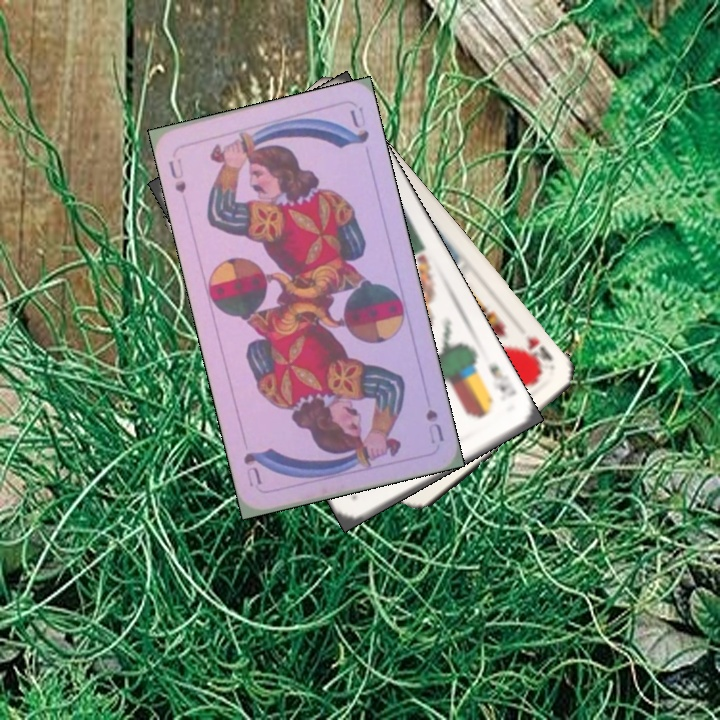EK: (484, 360, 519, 399)
HK: (517, 330, 556, 375)
SU: (421, 405, 447, 446), (164, 155, 189, 196)
